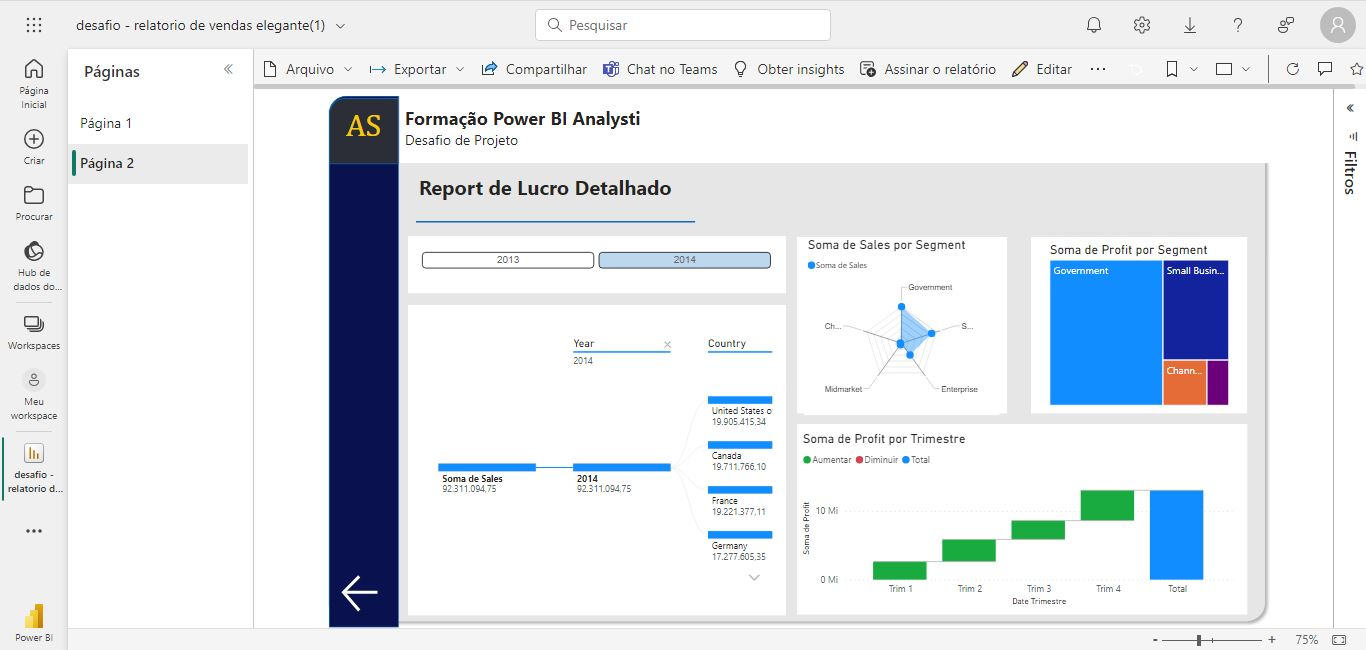

The dashboard page shown, as its layout file describes it:
{"tool":"powerbi","page":{"name":"Página 2","canvas":[1280,720],"ordinal":1},"visuals":[{"type":"shape","box":[20,11.4,92.9,88.6],"z":0,"group":"g1"},{"type":"shape","title":"Background","box":[10,0,1270,720],"z":0},{"type":"textbox","box":[31.6,16.4,68,83.6],"z":1000,"group":"g1"},{"type":"shape","title":"Lateral","box":[20,10,93.3,710],"z":1000},{"type":"shape","title":"Barra de título","box":[115,10,1165,90],"z":2000},{"type":"textbox","title":"Título","box":[115.8,16.8,481.5,67.1],"z":3000},{"type":"group","id":"g1","title":"Logo","box":[20,11.4,92.9,87.1],"z":4000},{"type":"shape","box":[645.1,447.8,601.9,254.9],"z":5000},{"type":"shape","box":[125,288.3,505,415],"z":6000},{"type":"shape","box":[645.1,197.3,280.8,236.2],"z":7000},{"type":"textbox","box":[135,108.3,375,51.7],"z":8000},{"type":"shape","box":[136.7,138.3,373.3,76.7],"z":9000},{"type":"actionButton","box":[31.7,643.3,68.3,60],"z":10000},{"type":"shape","box":[125,196.7,505,76.7],"z":11000},{"type":"shape","box":[957.6,197.3,289.4,236.2],"z":12000},{"type":"ChicletSlicer1448559807354","fields":{"Category":["financials.Date.Variation.Hierarquia de datas.Ano"]},"box":[136.7,210,481.7,50],"z":13000},{"type":"treemap","fields":{"Values":["Sum(financials.Profit)"],"Group":["financials.Segment"]},"box":[977.8,204.5,249.1,223.2],"z":14000},{"type":"RadarChart1446119667547","fields":{"Y":["Sum(financials. Sales)"],"Category":["financials.Segment"]},"box":[655.2,197.3,260.6,237.6],"z":15000},{"type":"decompositionTreeVisual","fields":{"ExplainBy":["financials.Year","financials.Country"],"Analyze":["Sum(financials. Sales)"]},"box":[136.8,315.4,481,358.6],"z":15001},{"type":"waterfallChart","fields":{"Y":["Sum(financials.Profit)"],"Category":["financials.Date.Variation.Hierarquia de datas.Trimestre"]},"box":[648,456.5,584.6,237.6],"z":15002}]}

Visuals, with their boxes on the page's 1280x720 design canvas (x1, y1, x2, y2). These are canvas units, not pixel positions in the 1366x650 screenshot, which may show the page scaled, cropped or inside an application window:
shape: l=20, t=11, r=113, b=100
"Background" shape: l=10, t=0, r=1280, b=720
textbox: l=32, t=16, r=100, b=100
"Lateral" shape: l=20, t=10, r=113, b=720
"Barra de título" shape: l=115, t=10, r=1280, b=100
"Título" textbox: l=116, t=17, r=597, b=84
"Logo" group: l=20, t=11, r=113, b=98
shape: l=645, t=448, r=1247, b=703
shape: l=125, t=288, r=630, b=703
shape: l=645, t=197, r=926, b=434
textbox: l=135, t=108, r=510, b=160
shape: l=137, t=138, r=510, b=215
actionButton: l=32, t=643, r=100, b=703
shape: l=125, t=197, r=630, b=273
shape: l=958, t=197, r=1247, b=434
ChicletSlicer1448559807354 - financials.Date.Variation.Hierarquia de datas.Ano: l=137, t=210, r=618, b=260
treemap - Sum(financials.Profit) x financials.Segment: l=978, t=204, r=1227, b=428
RadarChart1446119667547 - Sum(financials. Sales) x financials.Segment: l=655, t=197, r=916, b=435
decompositionTreeVisual - financials.Year x financials.Country: l=137, t=315, r=618, b=674
waterfallChart - Sum(financials.Profit) x financials.Date.Variation.Hierarquia de datas.Trimestre: l=648, t=456, r=1233, b=694
